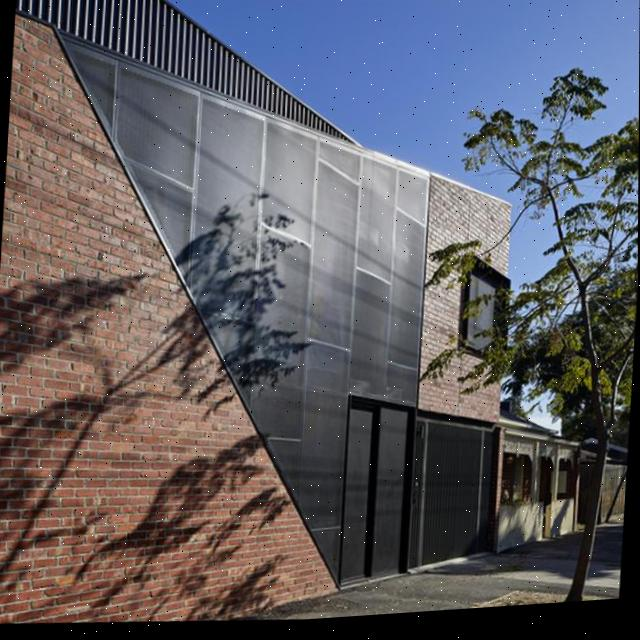building: (0, 0, 532, 640), (487, 402, 591, 558)
